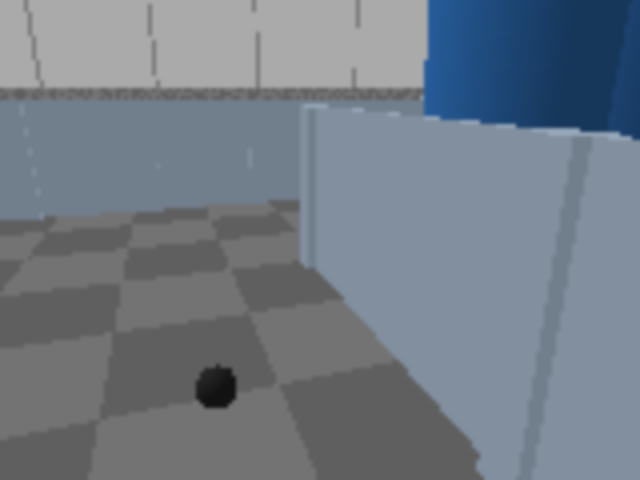person: (492, 0, 638, 358)
puck: (187, 356, 244, 421)
